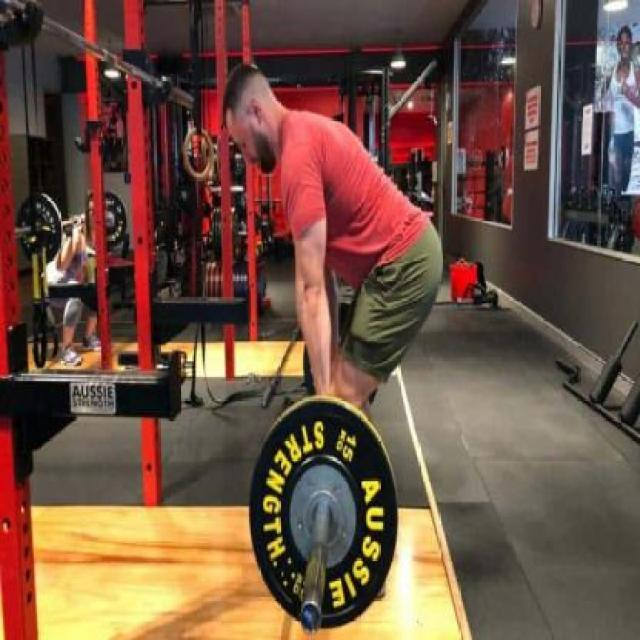barbell: (246, 385, 404, 636)
